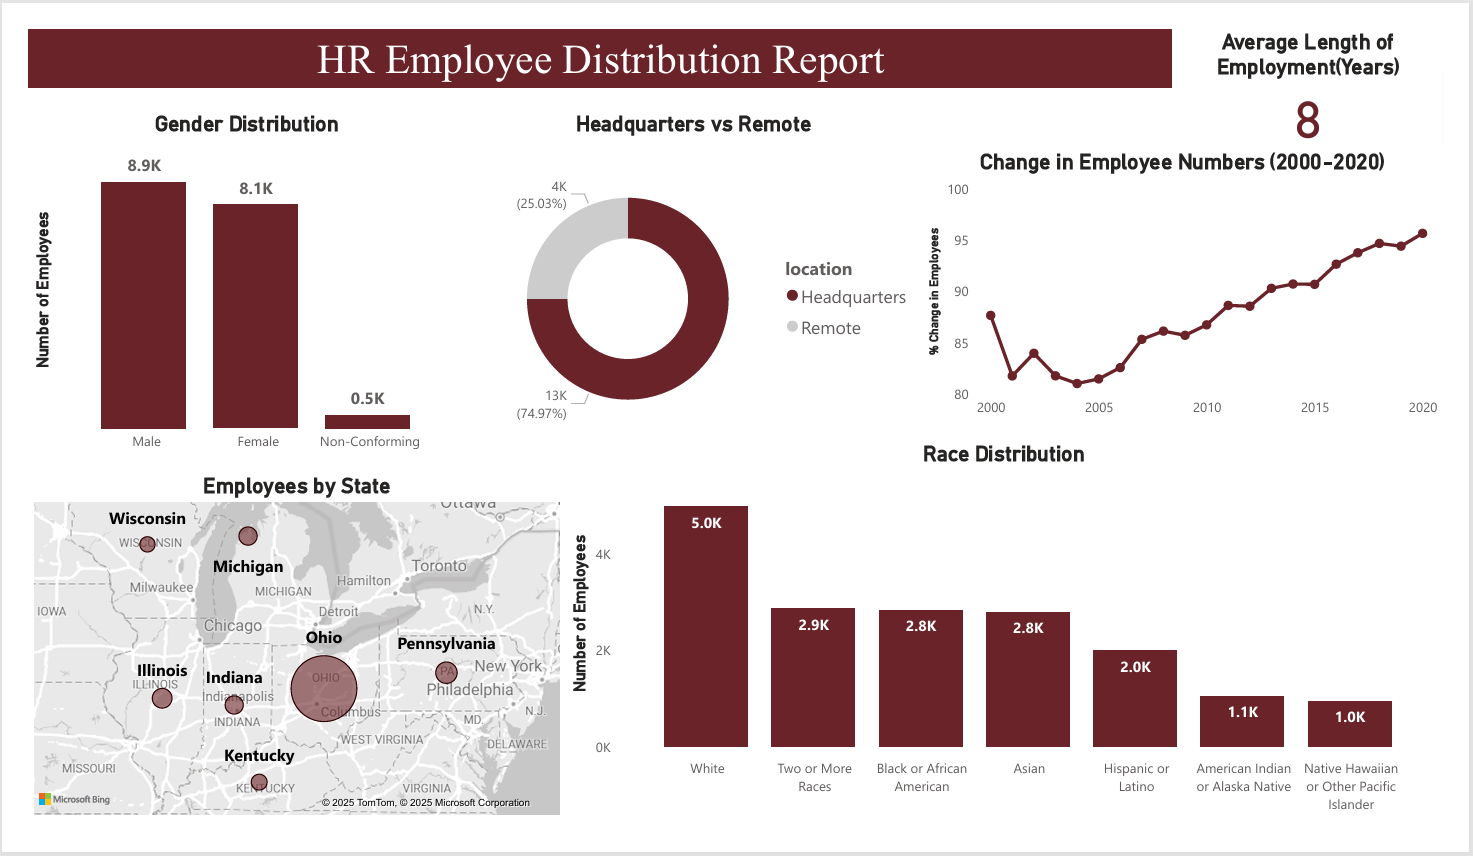

Layout of this report page (visuals, bound fields, positions):
{"tool":"powerbi","page":{"name":"Page 1","canvas":[1280,720],"ordinal":0},"visuals":[{"type":"textbox","box":[0,0,1035.7,53],"z":0},{"type":"card","title":"Average Length of Employment(Years)","fields":{"Values":["Sum(avg_emp_length.avg_emp_length)"]},"box":[1035.7,0,243.8,107.5],"z":1000},{"type":"columnChart","title":"Gender Distribution","fields":{"Category":["gender.gender"],"Y":["Sum(gender.Gender_Count)"]},"box":[0,74.2,395.2,316.5],"z":2000},{"type":"donutChart","title":"Headquarters vs Remote","fields":{"Category":["locations.location"],"Y":["Sum(locations.count)"]},"box":[395.2,74.2,413.4,316.5],"z":3000},{"type":"lineChart","title":"Change in Employee Numbers (2000-2020)","fields":{"Category":["net_change_percentage.hire_year"],"Y":["Sum(net_change_percentage.net_change_percentage)"]},"box":[808.6,107.5,470.9,252.9],"z":4000},{"type":"map","title":"Employees by State","fields":{"Size":["Sum(state.count)"],"Category":["state.location_state"]},"box":[0,401.3,486.1,315],"z":5000},{"type":"clusteredColumnChart","title":"Race Distribution","fields":{"Category":["race_count.race"],"Y":["Sum(race_count.Race_Count)"]},"box":[486.1,372.5,793.4,343.7],"z":5001}]}

Visuals, with their boxes on the page's 1280x720 design canvas (x1, y1, x2, y2). These are canvas units, not pixel positions in the 1473x856 screenshot, which may show the page scaled, cropped or inside an application window:
textbox: l=0, t=0, r=1036, b=53
"Average Length of Employment(Years)" card: l=1036, t=0, r=1280, b=108
"Gender Distribution" columnChart: l=0, t=74, r=395, b=391
"Headquarters vs Remote" donutChart: l=395, t=74, r=809, b=391
"Change in Employee Numbers (2000-2020)" lineChart: l=809, t=108, r=1280, b=360
"Employees by State" map: l=0, t=401, r=486, b=716
"Race Distribution" clusteredColumnChart: l=486, t=372, r=1280, b=716
